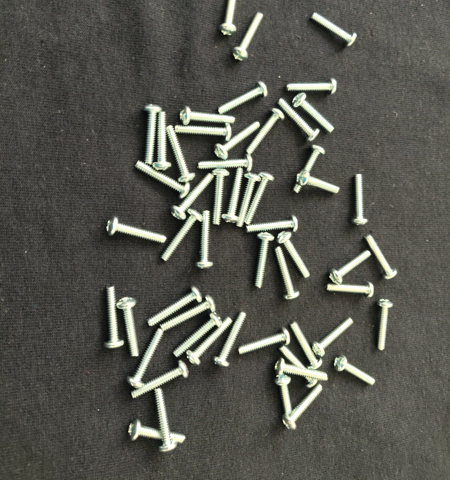longscrew: (123, 328, 164, 390), (146, 285, 203, 328), (185, 316, 233, 367), (172, 312, 224, 359), (130, 360, 190, 400), (160, 208, 204, 262), (134, 160, 191, 200), (159, 294, 217, 333), (170, 172, 215, 221), (277, 98, 321, 143), (281, 384, 323, 431), (245, 108, 286, 155), (212, 312, 247, 367), (213, 121, 262, 160), (277, 343, 319, 388), (217, 80, 269, 115), (291, 93, 335, 134), (231, 12, 266, 63), (310, 11, 358, 48), (166, 124, 196, 183), (292, 144, 326, 196), (311, 317, 354, 358), (244, 171, 276, 226), (152, 388, 178, 455), (275, 231, 311, 279), (106, 217, 167, 245), (290, 321, 323, 370), (115, 297, 141, 358), (364, 234, 398, 280), (127, 419, 187, 445), (329, 250, 372, 285), (102, 285, 125, 350), (237, 328, 292, 355), (274, 246, 301, 300), (236, 172, 262, 228), (334, 354, 377, 386), (274, 357, 329, 382), (221, 167, 245, 224), (143, 103, 163, 167), (254, 231, 276, 289), (178, 106, 236, 127), (195, 210, 215, 270), (296, 169, 340, 196), (153, 111, 172, 172), (174, 123, 233, 142), (197, 153, 253, 173), (211, 169, 230, 226), (245, 215, 299, 234), (350, 173, 369, 226), (376, 299, 395, 351), (325, 280, 376, 299), (286, 78, 339, 95), (274, 374, 293, 420), (218, 0, 240, 37)
